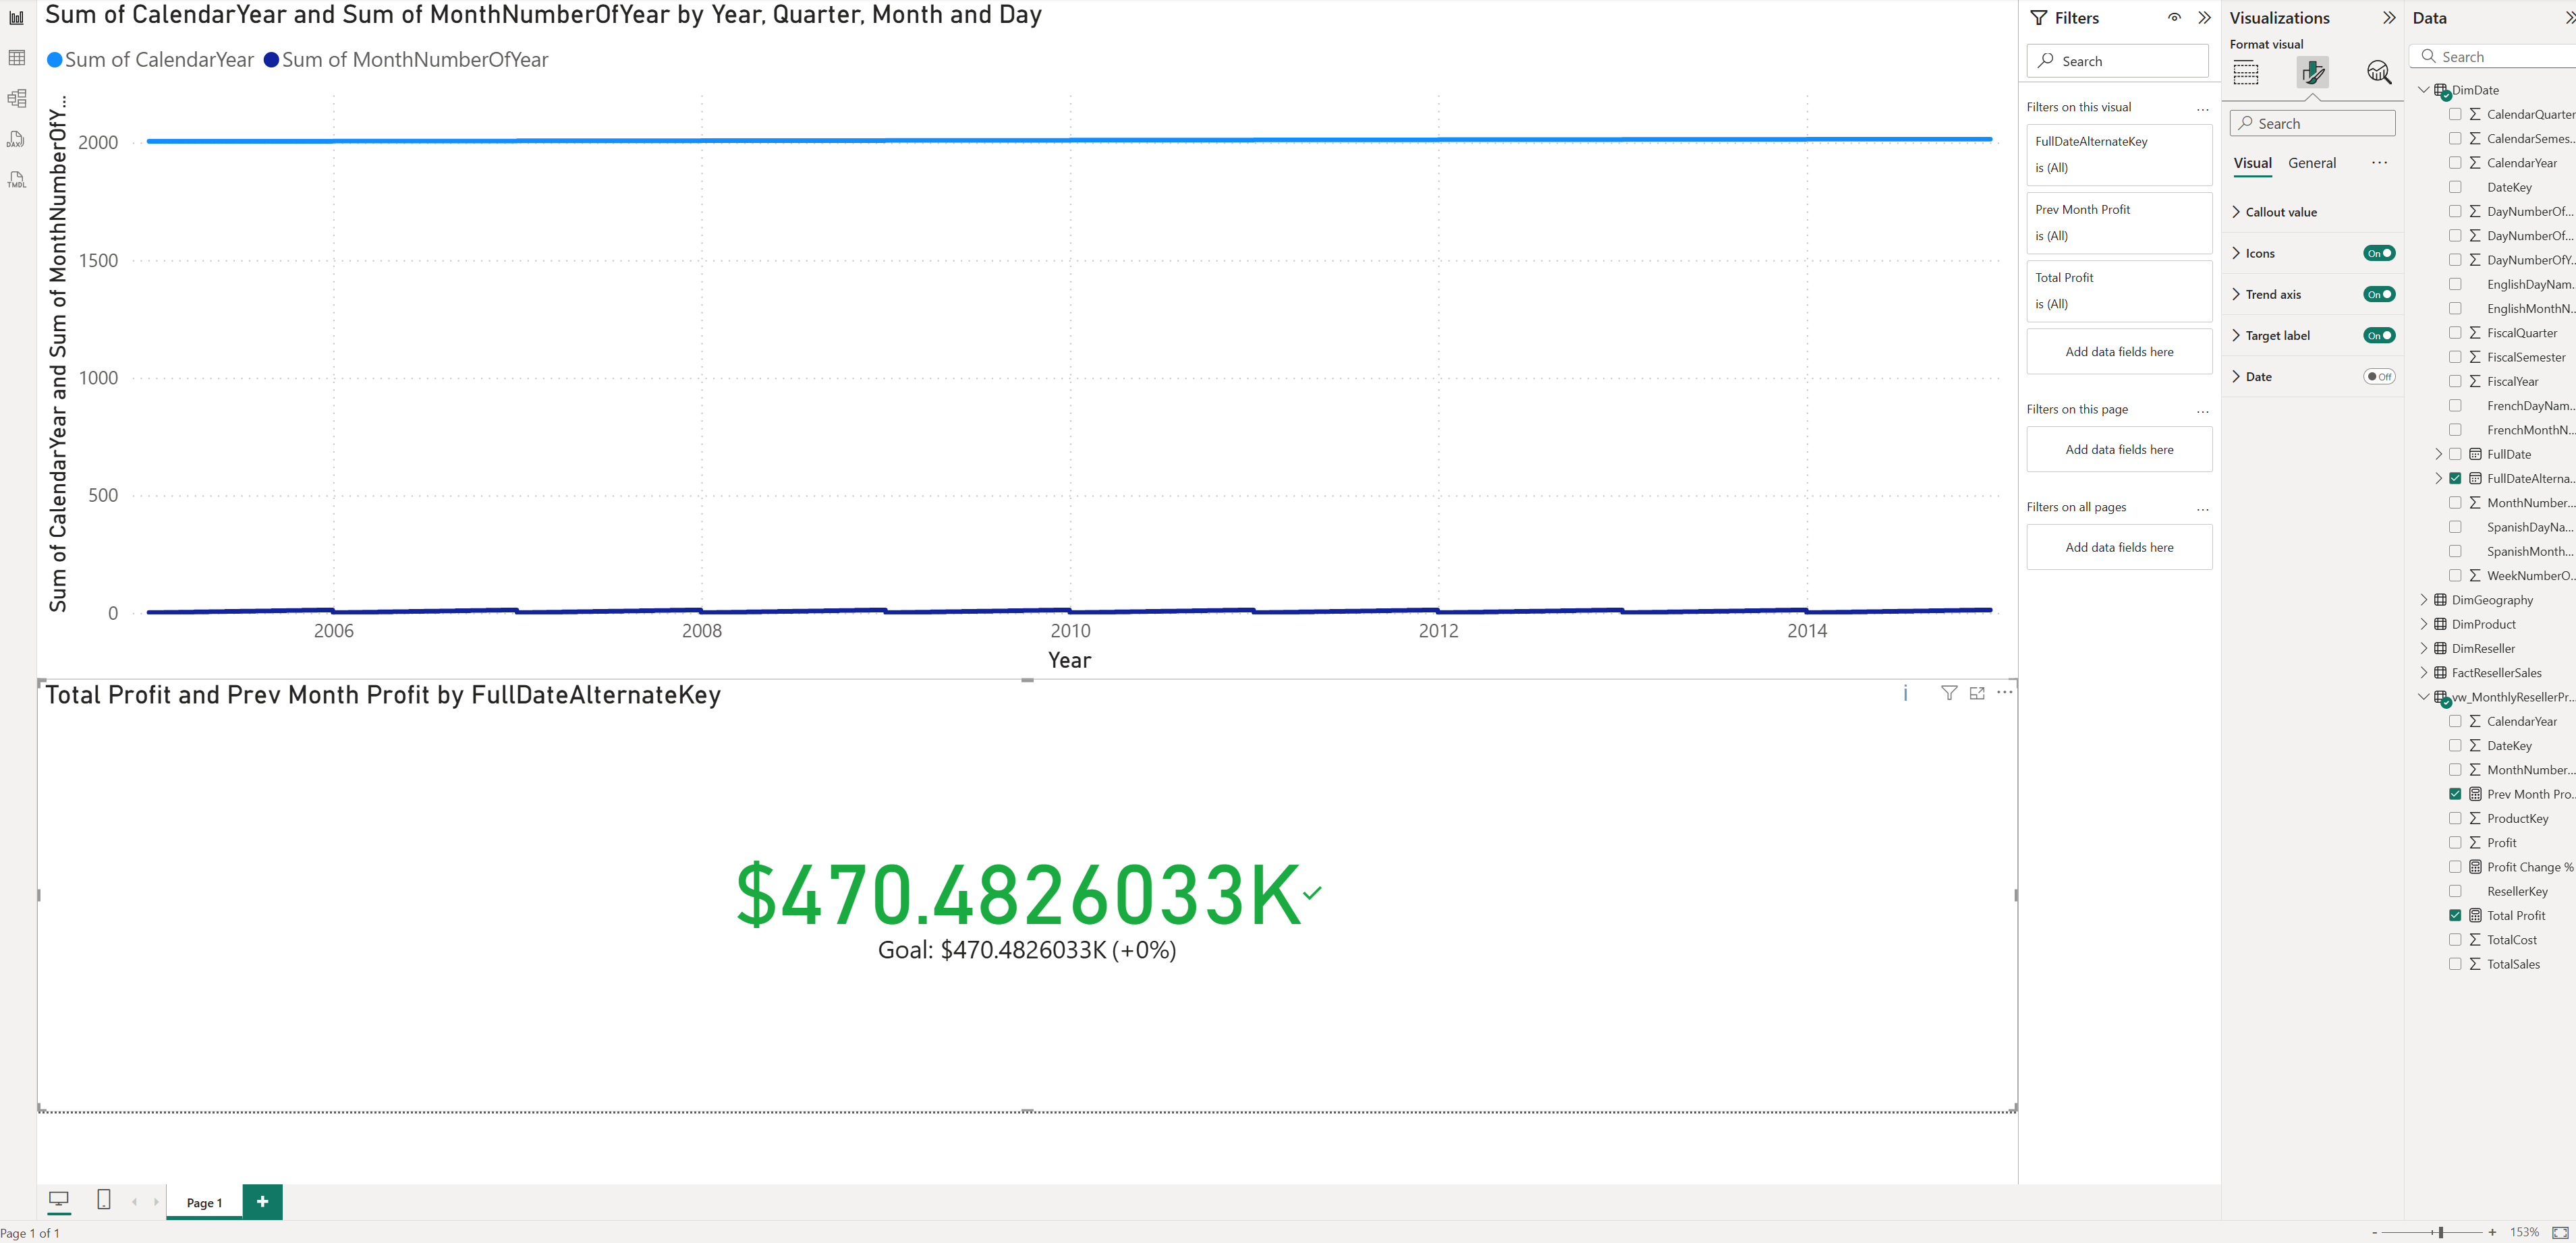

The page's visual inventory and layout, read from the dashboard file:
{"tool":"powerbi","page":{"name":"Page 1","canvas":[1280,720],"ordinal":0},"visuals":[{"type":"kpi","fields":{"Indicator":["vw_MonthlyResellerProfit.Total Profit"],"TrendLine":["DimDate.FullDateAlternateKey"],"Goal":["vw_MonthlyResellerProfit.Prev Month Profit"]},"box":[0,440.1,1279.8,279.9],"z":0},{"type":"lineChart","fields":{"Y":["Sum(DimDate.CalendarYear)","Sum(DimDate.MonthNumberOfYear)"],"Category":["DimDate.FullDateAlternateKey.Variation.Date Hierarchy.Year","DimDate.FullDateAlternateKey.Variation.Date Hierarchy.Quarter","DimDate.FullDateAlternateKey.Variation.Date Hierarchy.Month","DimDate.FullDateAlternateKey.Variation.Date Hierarchy.Day"]},"box":[0,0,1279.8,440.1],"z":1}]}

Visuals, with their boxes on the page's 1280x720 design canvas (x1, y1, x2, y2). These are canvas units, not pixel positions in the 2576x1243 screenshot, which may show the page scaled, cropped or inside an application window:
kpi - vw_MonthlyResellerProfit.Total Profit x DimDate.FullDateAlternateKey: 0/440/1280/720
lineChart - Sum(DimDate.CalendarYear) x Sum(DimDate.MonthNumberOfYear): 0/0/1280/440
